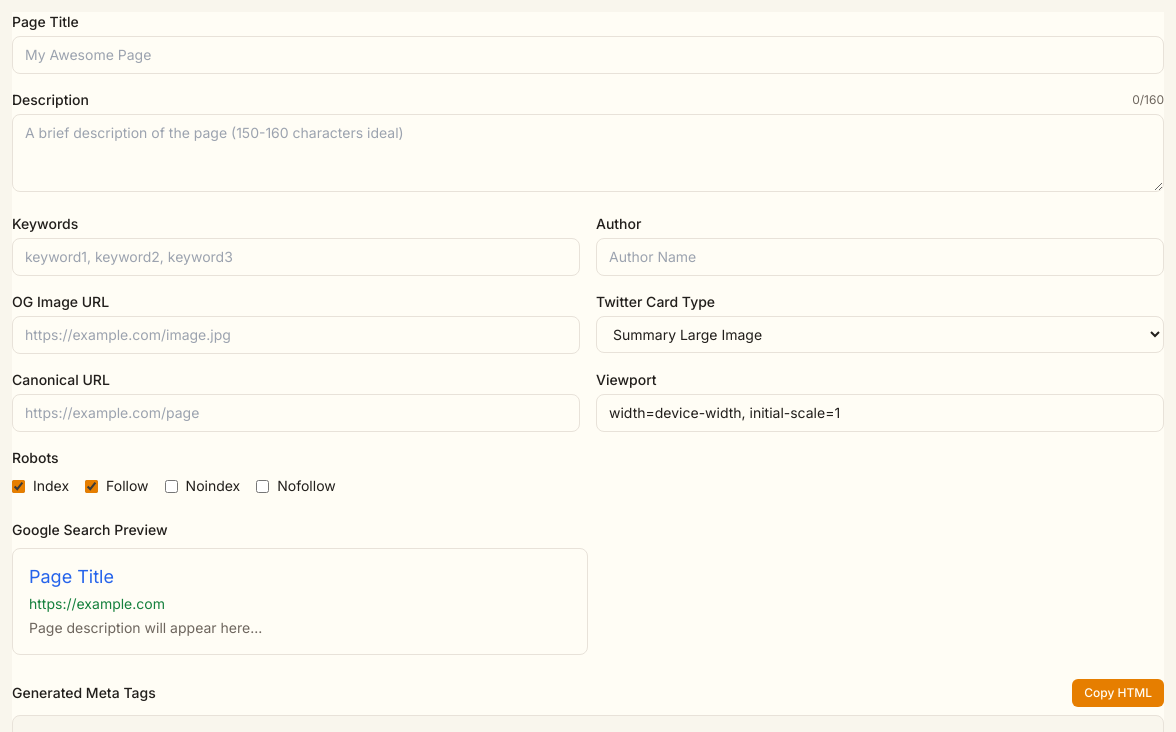
Test case: MetaTagGenerator › shows character count for description
Type "Hello world" into the text box labelled "Description" at point(588, 153), box [12,114,1164,192]
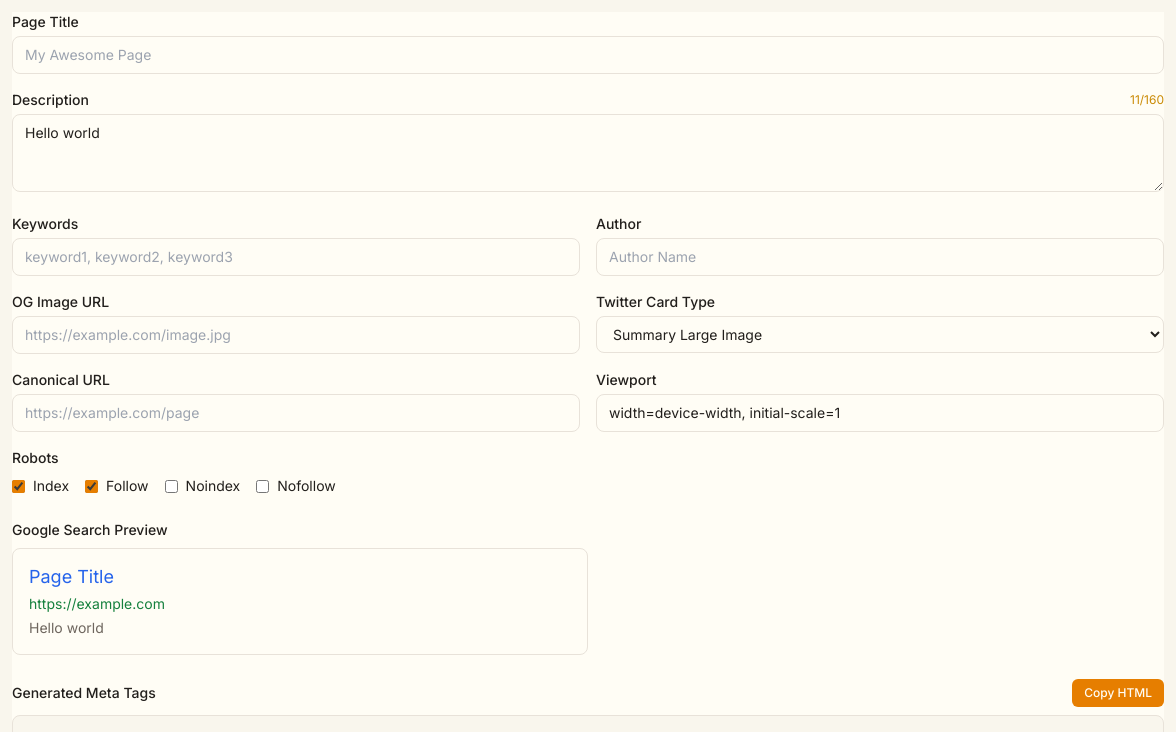
Now the text "11/160" is shown, box [1130,92,1164,108]
